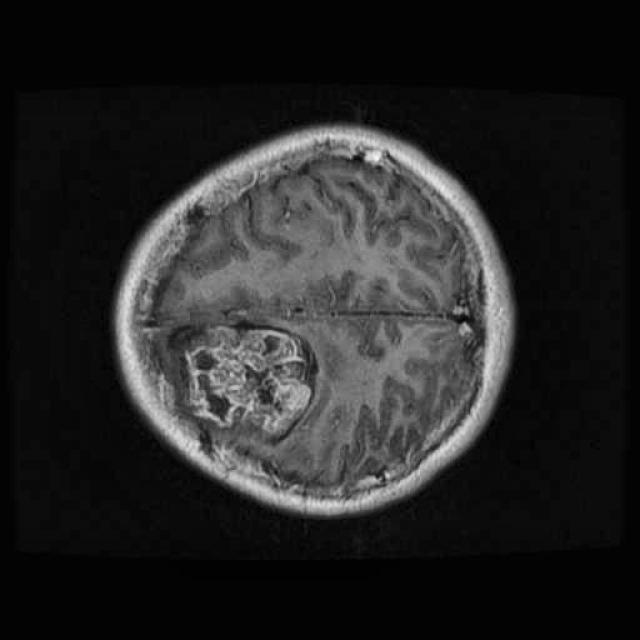Non-Tumor: (151, 304, 328, 464)
